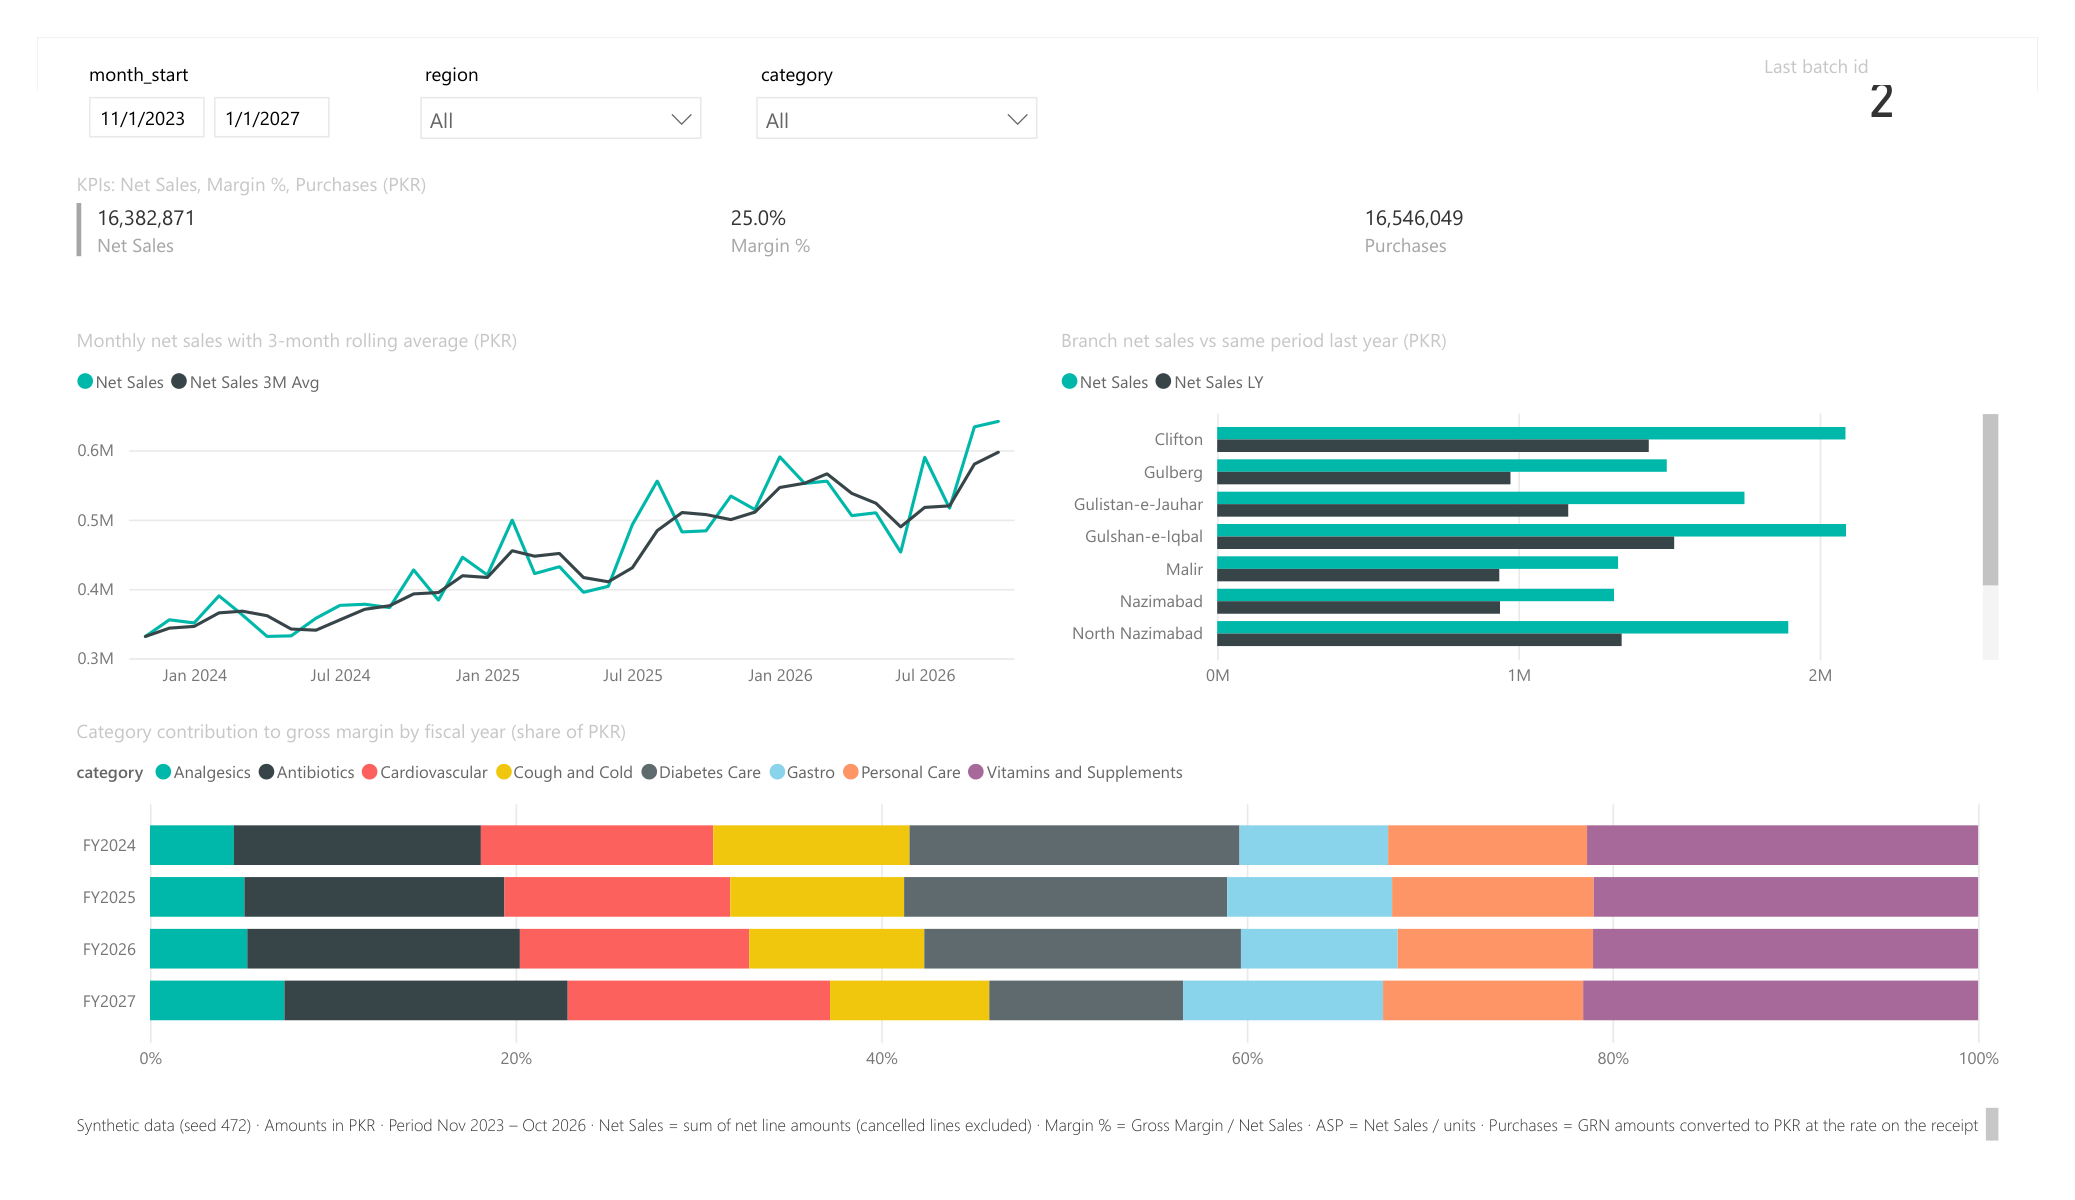

Layout of this report page (visuals, bound fields, positions):
{"tool":"powerbi","page":{"name":"Management Overview","canvas":[1280,720],"ordinal":0},"visuals":[{"type":"slicer","fields":{"Values":["Date.month_start"]},"box":[20,10,200,60],"z":0},{"type":"slicer","fields":{"Values":["Branch.region"]},"box":[235,10,200,60],"z":0},{"type":"slicer","fields":{"Values":["Product.category"]},"box":[450,10,200,60],"z":0},{"type":"card","title":"Last batch id","fields":{"Values":["Sales.Last Batch"]},"box":[1100,10,160,60],"z":0},{"type":"multiRowCard","title":"KPIs: Net Sales, Margin %, Purchases (PKR)","fields":{"Values":["Sales.Net Sales","Sales.Margin %","Purchases.Purchases"]},"box":[20,85,1240,90],"z":0},{"type":"lineChart","title":"Monthly net sales with 3-month rolling average (PKR)","fields":{"Category":["Date.month_start"],"Y":["Sales.Net Sales","Sales.Net Sales 3M Avg"]},"box":[20,185,620,240],"z":0},{"type":"clusteredBarChart","title":"Branch net sales vs same period last year (PKR)","fields":{"Category":["Branch.branch_name"],"Y":["Sales.Net Sales","Sales.Net Sales LY"]},"box":[650,185,610,240],"z":0},{"type":"hundredPercentStackedBarChart","title":"Category contribution to gross margin by fiscal year (share of PKR)","fields":{"Category":["Date.fiscal_year"],"Series":["Product.category"],"Y":["Sales.Gross Margin"]},"box":[20,435,1240,235],"z":0},{"type":"textbox","box":[20,680,1240,34],"z":0}]}

Visuals, with their boxes on the page's 1280x720 design canvas (x1, y1, x2, y2). These are canvas units, not pixel positions in the 2075x1200 screenshot, which may show the page scaled, cropped or inside an application window:
slicer - Date.month_start: box=[20, 10, 220, 70]
slicer - Branch.region: box=[235, 10, 435, 70]
slicer - Product.category: box=[450, 10, 650, 70]
"Last batch id" card: box=[1100, 10, 1260, 70]
"KPIs: Net Sales, Margin %, Purchases (PKR)" multiRowCard: box=[20, 85, 1260, 175]
"Monthly net sales with 3-month rolling average (PKR)" lineChart: box=[20, 185, 640, 425]
"Branch net sales vs same period last year (PKR)" clusteredBarChart: box=[650, 185, 1260, 425]
"Category contribution to gross margin by fiscal year (share of PKR)" hundredPercentStackedBarChart: box=[20, 435, 1260, 670]
textbox: box=[20, 680, 1260, 714]
